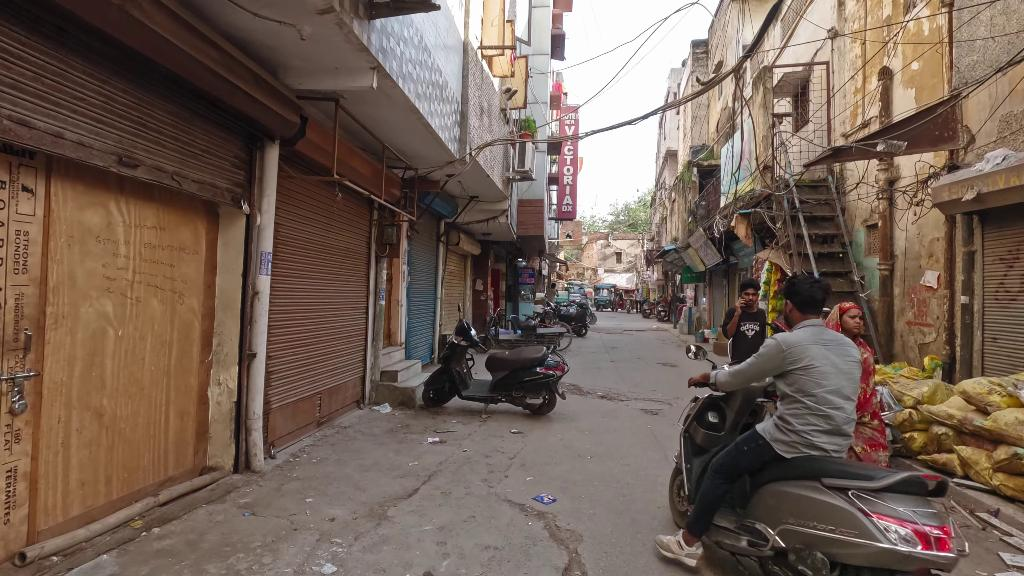garbage: (533, 488, 558, 509), (419, 432, 445, 449), (372, 399, 391, 416)
